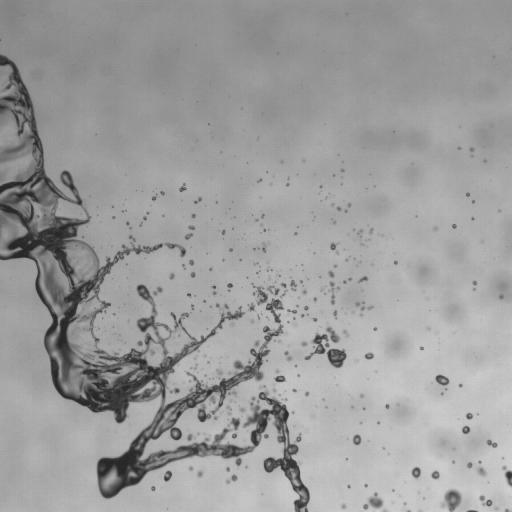droplet: (305, 326, 346, 367), (363, 492, 388, 511), (440, 489, 461, 511), (435, 374, 449, 385), (274, 369, 285, 382), (479, 495, 492, 506), (476, 466, 487, 476), (411, 467, 420, 479), (163, 470, 172, 481), (226, 475, 237, 484), (353, 434, 361, 445), (430, 470, 439, 479), (330, 243, 338, 253), (284, 351, 292, 361), (461, 426, 470, 434), (290, 280, 296, 290), (365, 352, 373, 359), (179, 184, 186, 191), (190, 364, 197, 371), (185, 233, 192, 239), (239, 406, 245, 413), (466, 413, 473, 419), (328, 271, 334, 277), (357, 229, 362, 236), (197, 470, 202, 477), (262, 243, 266, 251), (152, 194, 157, 200), (169, 273, 174, 279), (227, 283, 232, 289), (343, 330, 348, 336), (301, 341, 307, 346), (467, 462, 472, 468), (333, 311, 337, 318), (190, 272, 195, 277), (188, 466, 193, 471), (188, 225, 194, 229), (189, 259, 193, 265), (469, 147, 474, 151), (336, 206, 341, 210), (369, 228, 373, 233), (472, 281, 477, 285), (302, 289, 306, 294), (347, 203, 351, 207), (452, 224, 456, 228), (221, 230, 225, 234), (499, 294, 503, 298), (304, 306, 308, 310), (293, 322, 297, 326), (276, 339, 280, 343), (385, 404, 389, 408), (226, 467, 230, 471), (151, 486, 155, 490), (341, 504, 345, 508), (266, 268, 271, 271), (191, 214, 195, 217), (143, 216, 146, 220), (321, 287, 324, 291), (187, 293, 191, 296), (313, 297, 316, 301), (191, 305, 194, 309), (251, 319, 254, 323), (458, 384, 462, 387), (272, 388, 275, 392), (305, 391, 308, 395), (360, 393, 363, 397), (258, 179, 261, 182), (161, 191, 164, 194), (126, 222, 129, 225), (394, 261, 397, 264), (313, 318, 316, 321), (420, 346, 423, 349), (293, 389, 296, 392), (286, 183, 289, 185), (466, 193, 469, 195), (261, 215, 264, 217), (230, 248, 232, 251), (334, 264, 336, 267), (301, 314, 304, 316), (374, 327, 376, 330), (479, 461, 481, 464), (347, 485, 350, 487), (331, 203, 333, 205), (435, 227, 437, 229), (346, 258, 348, 260), (183, 265, 185, 267), (278, 274, 280, 276), (258, 315, 260, 317), (360, 314, 362, 316), (230, 400, 232, 402), (364, 484, 366, 486)
ligament: (0, 54, 308, 511), (329, 281, 340, 304), (502, 465, 511, 487), (355, 302, 372, 310), (486, 440, 497, 447), (357, 276, 367, 283), (343, 277, 351, 283), (212, 285, 216, 295), (195, 197, 201, 203), (287, 309, 296, 313), (467, 509, 477, 511), (504, 509, 511, 511), (403, 510, 410, 511), (418, 510, 422, 511)
